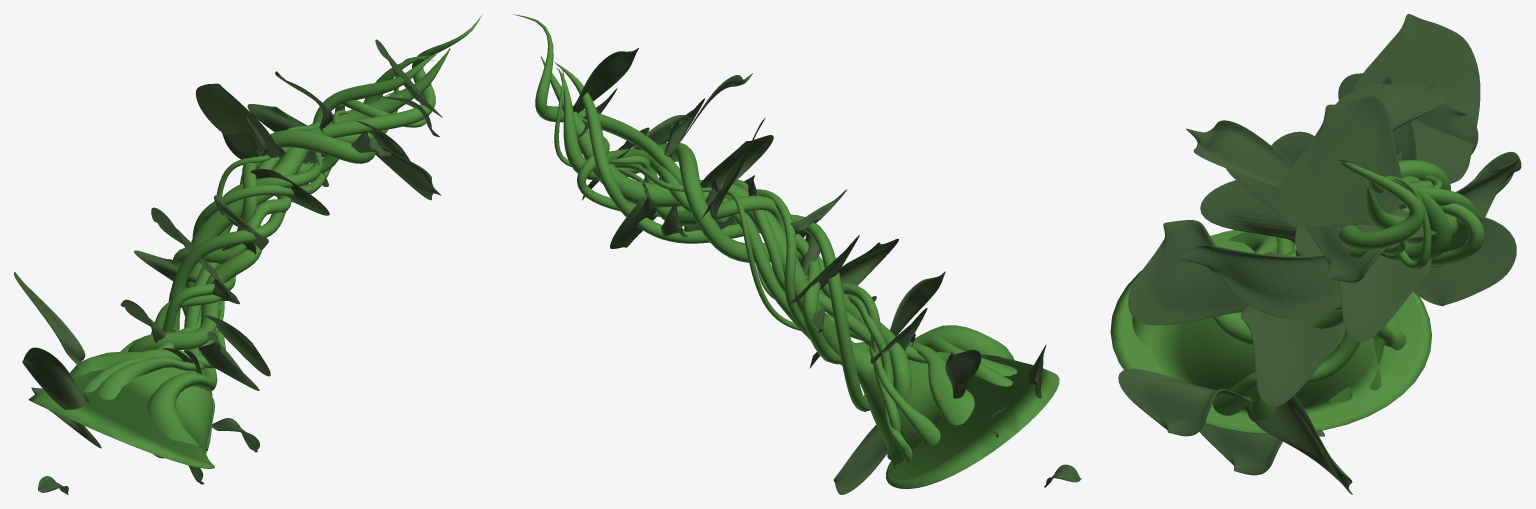
Rendered from BeanstalkBridge#10.fbx.
The picture shows the model from 3 angles, left to right: view 1: azimuth 30°, elevation 25°; view 2: azimuth 150°, elevation 25°; view 3: azimuth 270°, elevation 25°; orthographic projection. The views are drawn at different scales.
Parts seen in each view (by area): view 1: Stalk12.001, Stalk12, Stalk12.010, Stalk12.005, Stalk12.006, Stalk12.002, Stalk12|Plane.006|Dupli|2, Stalk12.001|Plane.006|Dupli|4, Stalk12.003, Stalk12.004, Stalk12.010|Plane.006|Dupli|3, Stalk12|Plane.006|Dupli|6 (+16 smaller); view 2: Stalk12.001, Stalk12.010, Stalk12.002, Stalk12, Stalk12.005, Stalk12.009, Stalk12.006, Stalk12.003, Stalk12.004, Stalk12.002|Plane.006|Dupli|2, Stalk12.001|Plane.006|Dupli|5, Stalk12.007 (+8 smaller); view 3: Stalk12.001, Stalk12.001|Plane.006|Dupli|5, Stalk12|Plane.006|Dupli|2, Stalk12.010|Plane.006|Dupli|4, Stalk12|Plane.006|Dupli|6, Stalk12.010|Plane.006|Dupli|7, Stalk12|Plane.006|Dupli|7, Stalk12.002|Plane.006|Dupli|3, Stalk12.010|Plane.006|Dupli|5, Stalk12|Plane.006|Dupli|5, Stalk12.010, Stalk12.002 (+17 smaller).
Boxes of the visible parts, x1,y1,x2,y2 form: Stalk12.001: [28, 48, 450, 468]; Stalk12: [128, 55, 431, 351]; Stalk12.010: [70, 14, 482, 377]; Stalk12.005: [147, 94, 403, 447]; Stalk12.006: [97, 90, 428, 399]; Stalk12.002: [168, 52, 437, 450]; Stalk12|Plane.006|Dupli|2: [196, 83, 278, 157]; Stalk12.001|Plane.006|Dupli|4: [22, 347, 89, 409]; Stalk12.003: [184, 110, 349, 373]; Stalk12.004: [82, 152, 322, 392]; Stalk12.010|Plane.006|Dupli|3: [14, 272, 85, 365]; Stalk12|Plane.006|Dupli|6: [375, 147, 441, 200]; Stalk12.001: [541, 56, 1059, 489]; Stalk12.010: [513, 14, 974, 425]; Stalk12.002: [554, 62, 870, 411]; Stalk12: [556, 68, 911, 460]; Stalk12.005: [580, 117, 1014, 364]; Stalk12.009: [554, 70, 940, 444]; Stalk12.006: [563, 117, 1017, 376]; Stalk12.003: [608, 155, 871, 346]; Stalk12.004: [607, 156, 1012, 386]; Stalk12.002|Plane.006|Dupli|2: [833, 425, 887, 494]; Stalk12.001|Plane.006|Dupli|5: [573, 48, 638, 113]; Stalk12.007: [756, 266, 900, 469]; Stalk12.001: [1110, 184, 1457, 434]; Stalk12.001|Plane.006|Dupli|5: [1277, 96, 1402, 227]; Stalk12|Plane.006|Dupli|2: [1352, 14, 1480, 183]; Stalk12.010|Plane.006|Dupli|4: [1128, 220, 1247, 325]; Stalk12|Plane.006|Dupli|6: [1179, 244, 1341, 319]; Stalk12.010|Plane.006|Dupli|7: [1240, 252, 1345, 406]; Stalk12|Plane.006|Dupli|7: [1339, 207, 1431, 342]; Stalk12.002|Plane.006|Dupli|3: [1118, 368, 1251, 436]; Stalk12.010|Plane.006|Dupli|5: [1402, 207, 1516, 306]; Stalk12|Plane.006|Dupli|5: [1186, 120, 1293, 189]; Stalk12.010: [1284, 158, 1424, 328]; Stalk12.002: [1212, 179, 1476, 415].
Size of the model in its own units: 217 by 158 by 107.
